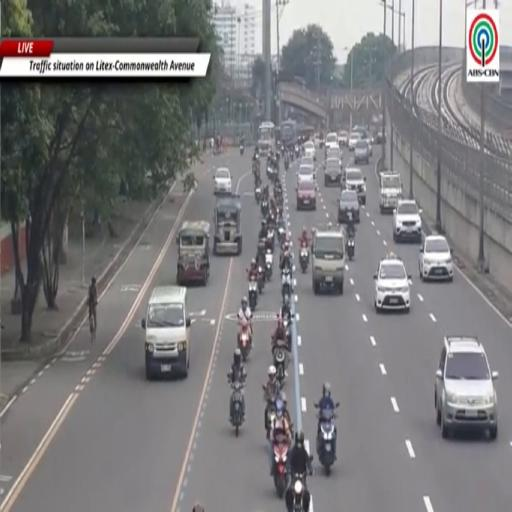bus: (258, 122, 275, 156), (281, 120, 297, 148)
car: (435, 336, 498, 440), (141, 286, 191, 379), (312, 227, 345, 294), (374, 253, 410, 312), (419, 234, 453, 281), (392, 200, 423, 243), (344, 168, 366, 204), (338, 190, 360, 223), (296, 181, 316, 210), (324, 157, 341, 186), (214, 168, 232, 195), (354, 139, 370, 164), (297, 165, 314, 184), (326, 148, 342, 167), (325, 133, 338, 155), (348, 132, 361, 151), (304, 141, 316, 161), (365, 133, 374, 156), (300, 156, 314, 166), (339, 131, 348, 146), (375, 131, 385, 143)
jeepney: (177, 221, 210, 285), (213, 196, 242, 255), (379, 171, 402, 213)
motorcycle: (316, 409, 336, 474), (273, 435, 288, 498), (230, 380, 244, 437), (273, 341, 286, 388), (291, 474, 305, 511), (265, 396, 276, 439), (238, 325, 251, 361), (248, 276, 257, 310), (282, 267, 291, 299), (256, 238, 266, 265), (265, 249, 273, 281), (283, 318, 291, 350), (300, 246, 309, 273), (257, 266, 265, 293), (266, 229, 274, 252), (347, 235, 354, 261), (254, 186, 262, 204), (278, 226, 285, 245), (261, 199, 268, 218), (267, 166, 273, 181), (295, 144, 300, 157), (285, 158, 289, 171), (240, 144, 244, 155)
